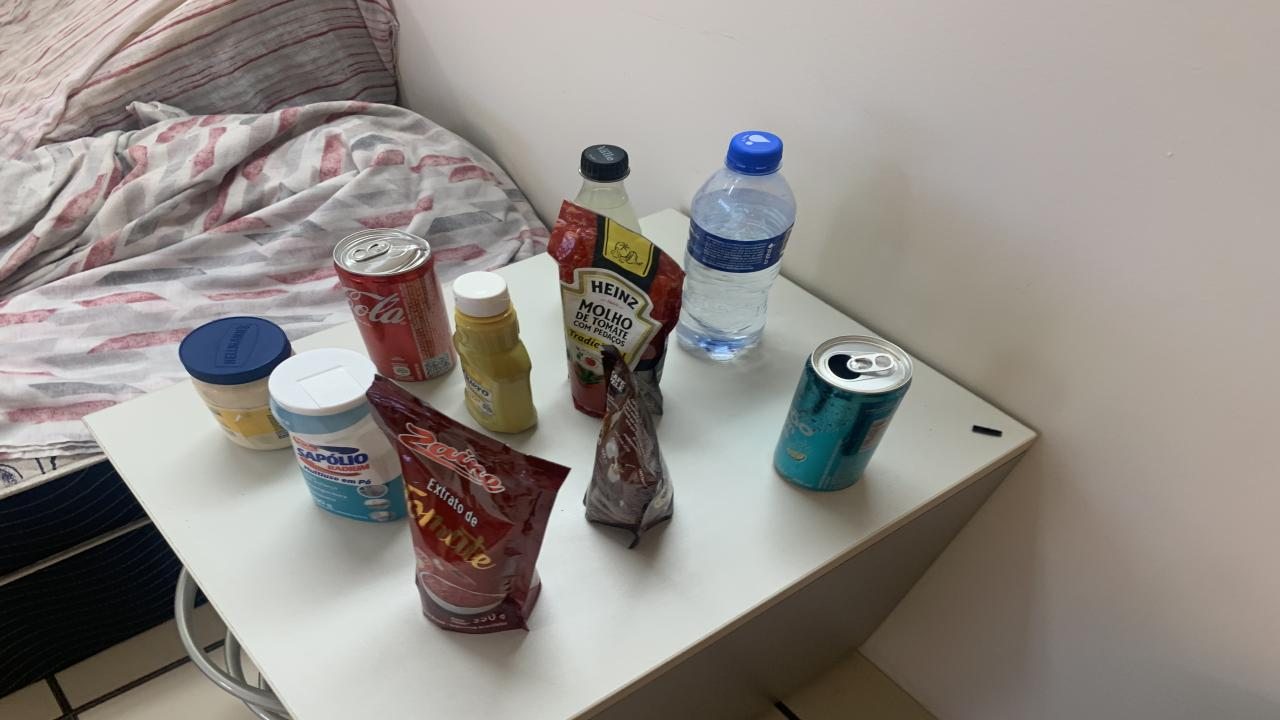Cleaner-Cleanup_Items: (270, 349, 408, 523)
Coffee-Pantry_Items: (585, 345, 672, 548)
Coke-Drinks: (332, 229, 455, 381)
Mayonnaise-Pantry_Items: (180, 317, 292, 450)
Mustard-Pantry_Items: (452, 272, 538, 433)
Soda-Drinks: (575, 144, 640, 234)
Tea-Drinks: (775, 336, 912, 491)
Tomato_Sauce-Pantry_Items: (368, 375, 570, 634), (548, 202, 685, 416), (678, 131, 795, 360)
